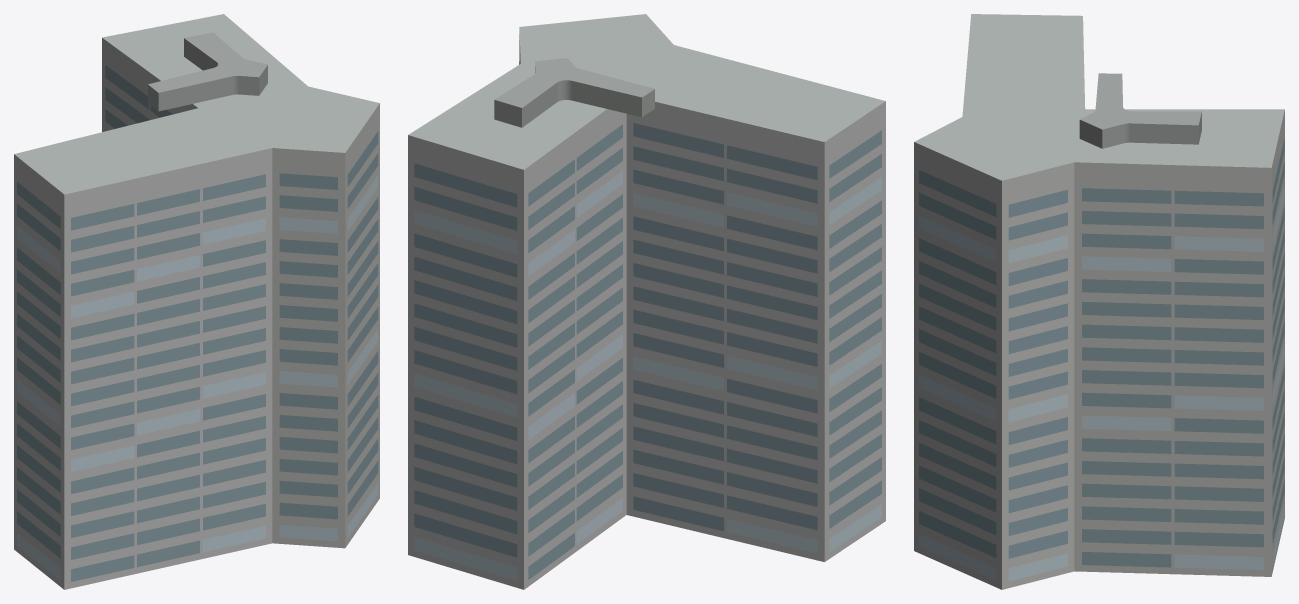
The model's file is apt-a13070302.glb.
3 views of the same model, side by side, from view 1: azimuth 30°, elevation 25°; view 2: azimuth 150°, elevation 25°; view 3: azimuth 270°, elevation 25° (orthographic). The views are drawn at different scales.
Parts seen in each view (by area): view 1: apt-a13070302; view 2: apt-a13070302; view 3: apt-a13070302.
Part boxes in pixels (<box>): apt-a13070302: <box>14,14,379,589</box>; apt-a13070302: <box>408,14,885,589</box>; apt-a13070302: <box>914,14,1284,589</box>.
Size of the model in its own units: 42.61 by 51 by 40.
